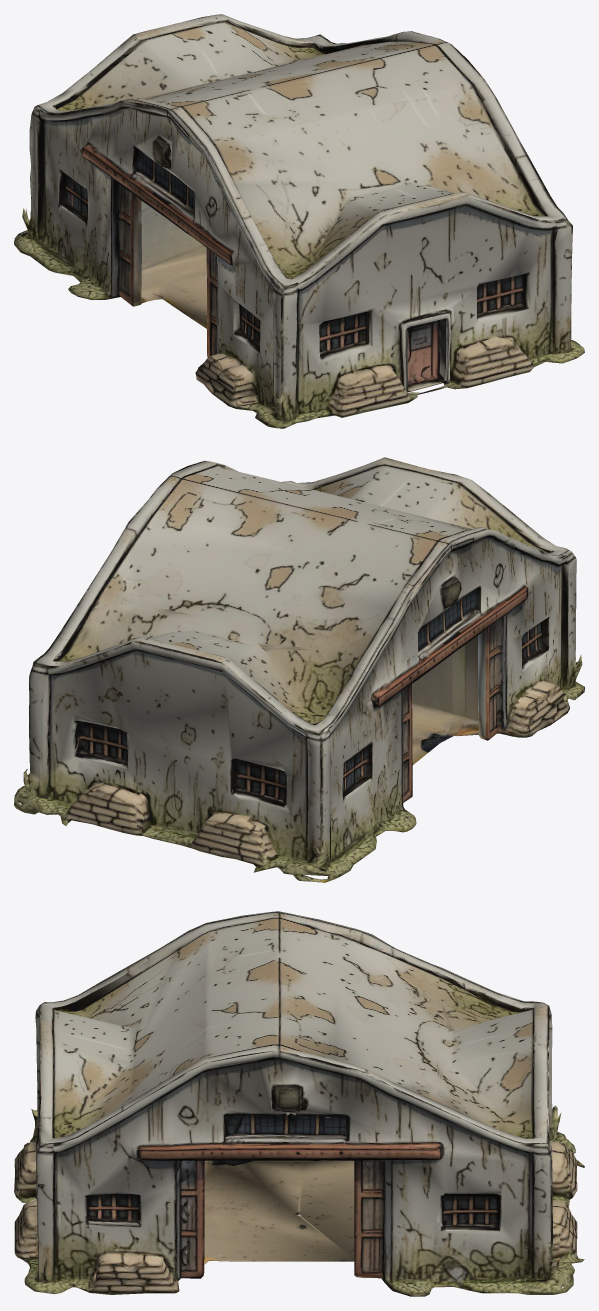
Rendered from Hangar+3d+modelo.fbx.
The picture shows the model from 3 angles, top to bottom: view 1: azimuth 30°, elevation 25°; view 2: azimuth 150°, elevation 25°; view 3: azimuth 270°, elevation 25°; orthographic projection. The views are drawn at different scales.
Visible parts, largest first — view 1: tripo_node_2d295153; view 2: tripo_node_2d295153; view 3: tripo_node_2d295153.
Boxes of the visible parts, x1,y1,x2,y2 form: tripo_node_2d295153: (14, 14, 584, 428); tripo_node_2d295153: (14, 457, 584, 882); tripo_node_2d295153: (14, 911, 584, 1296).
Size of the model in its own units: 0.6982 by 0.4553 by 1.
1 material, 1 textured.
